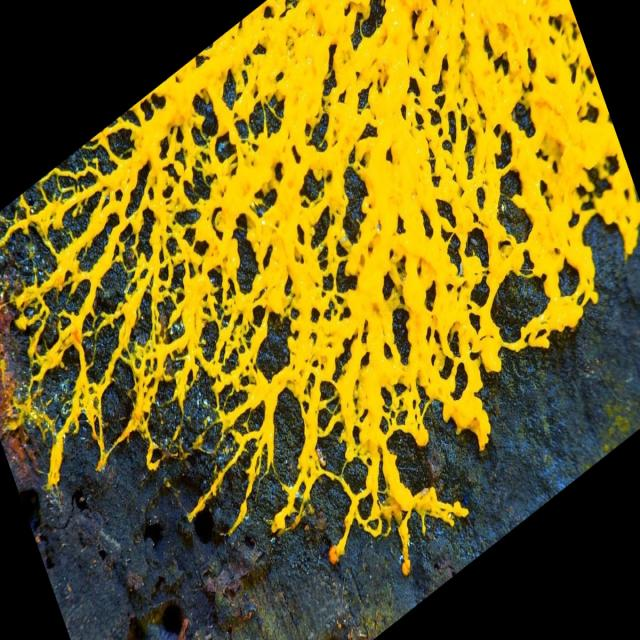Chlorosis: (1, 0, 638, 578)
Dog_vomit_slime_mold: (2, 3, 640, 579)
